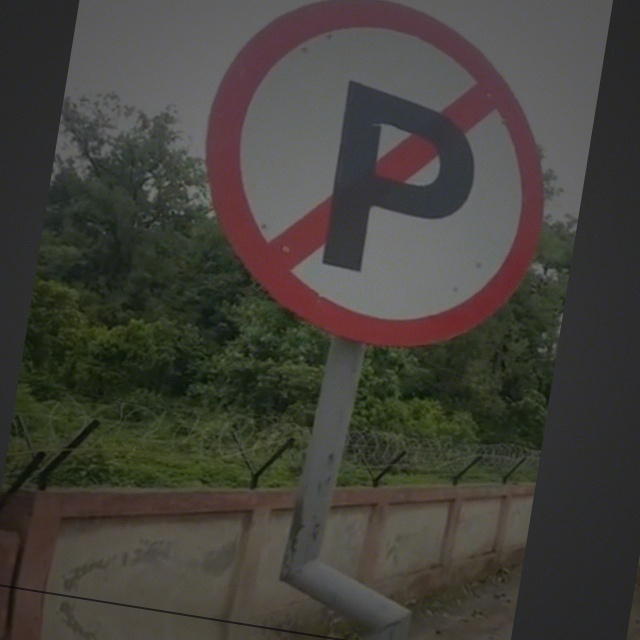No_Parking: (189, 1, 567, 360)
